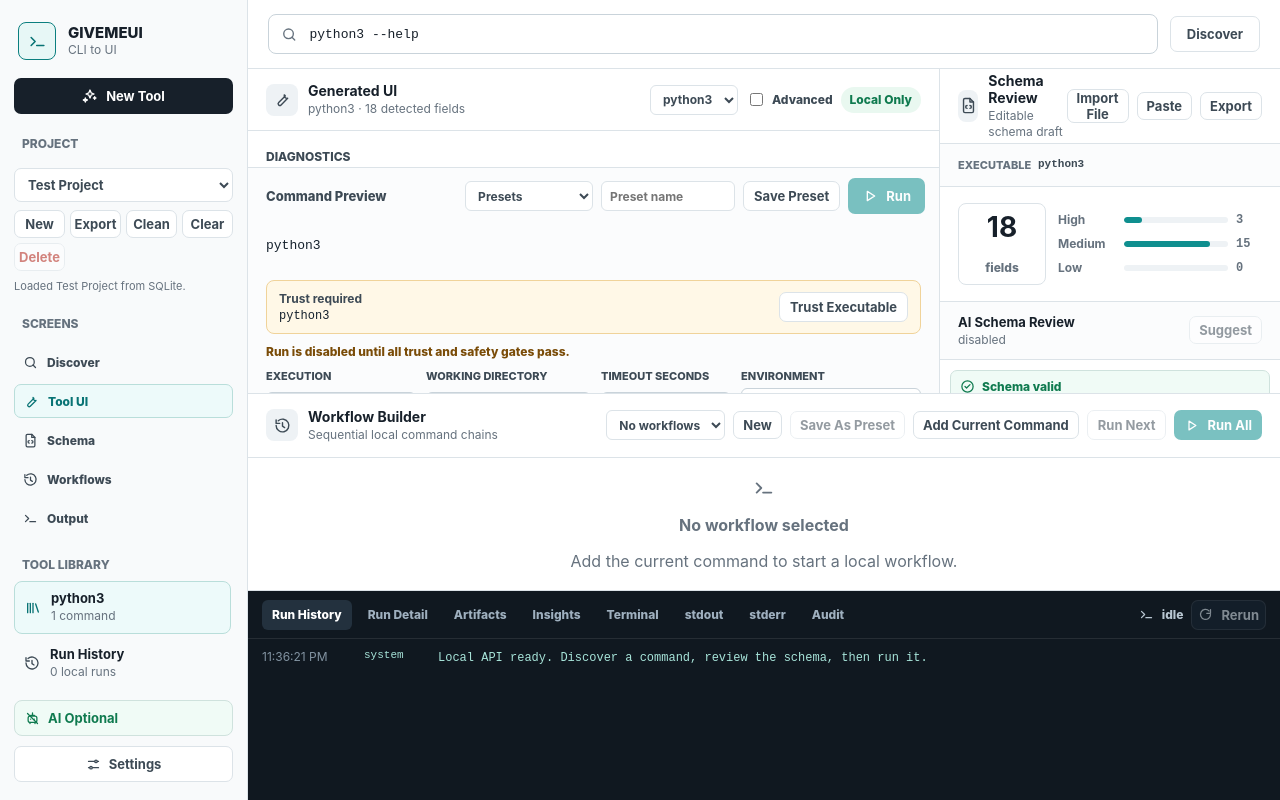
it: GIVEMEUI app integration › discovers a CLI tool from mocked help output and renders generated fields
Expected: the text "Schema valid" is shown, [982, 379, 1062, 393]
Replace the text in the field with test id "command-discovery-input" with "echo --help" at (726, 34), box [308, 26, 1145, 42]
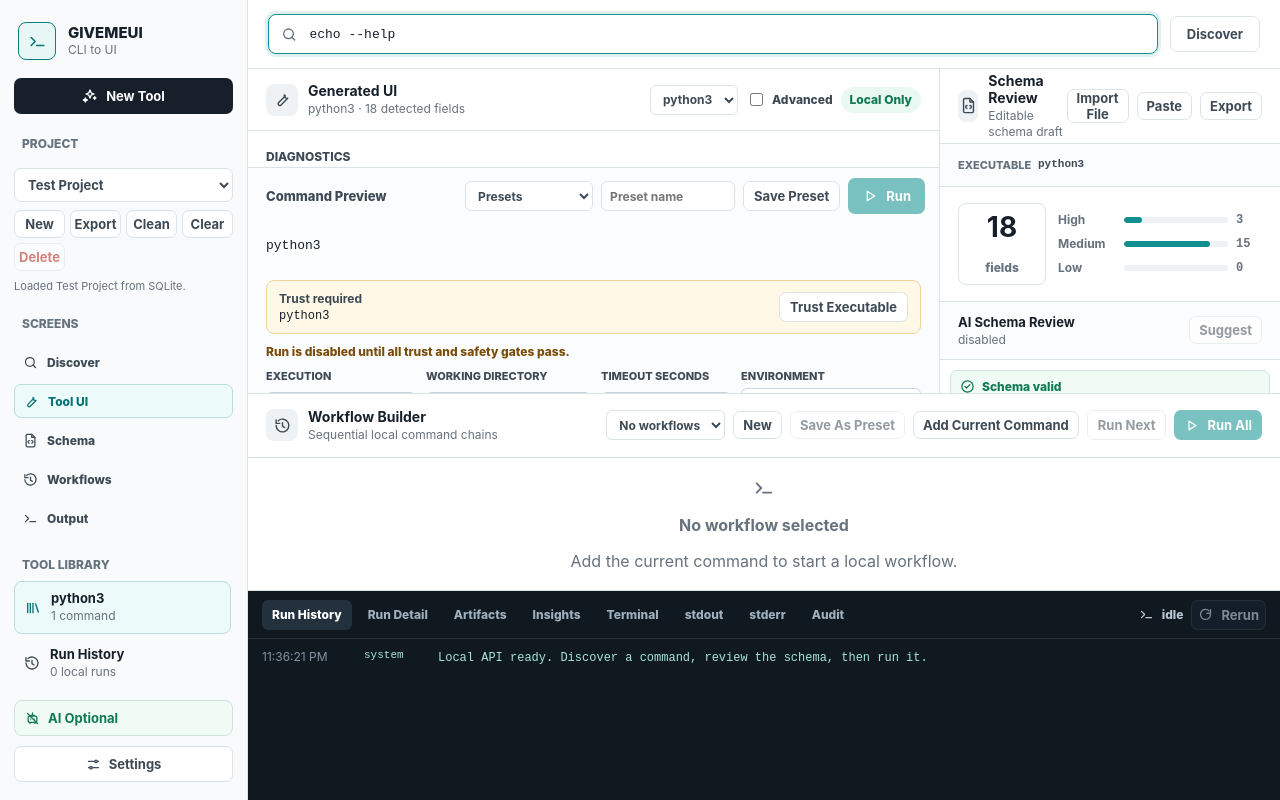
Click the button with test id "discover-command" at (1215, 34), box [1170, 16, 1260, 52]
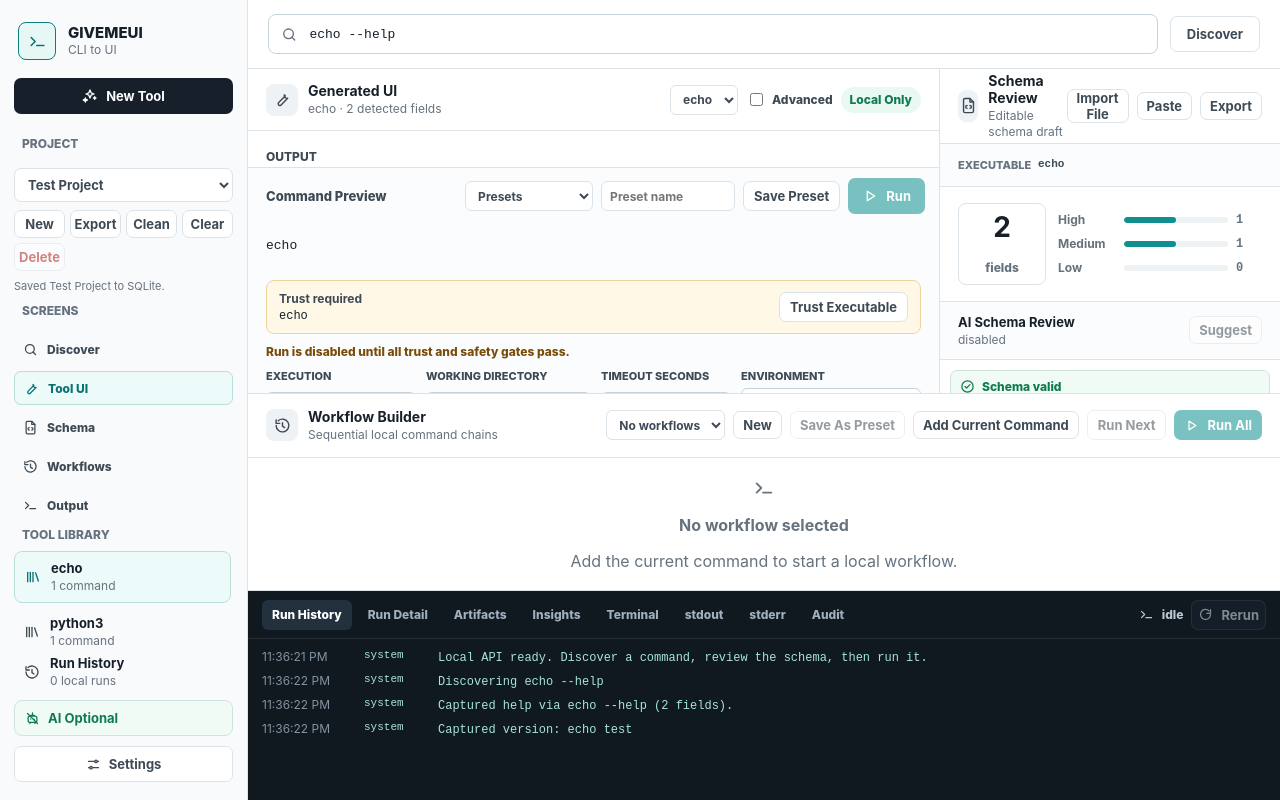
Expected: the text "Captured help via echo --help (2 fields)." is shown, [438, 699, 733, 713]
